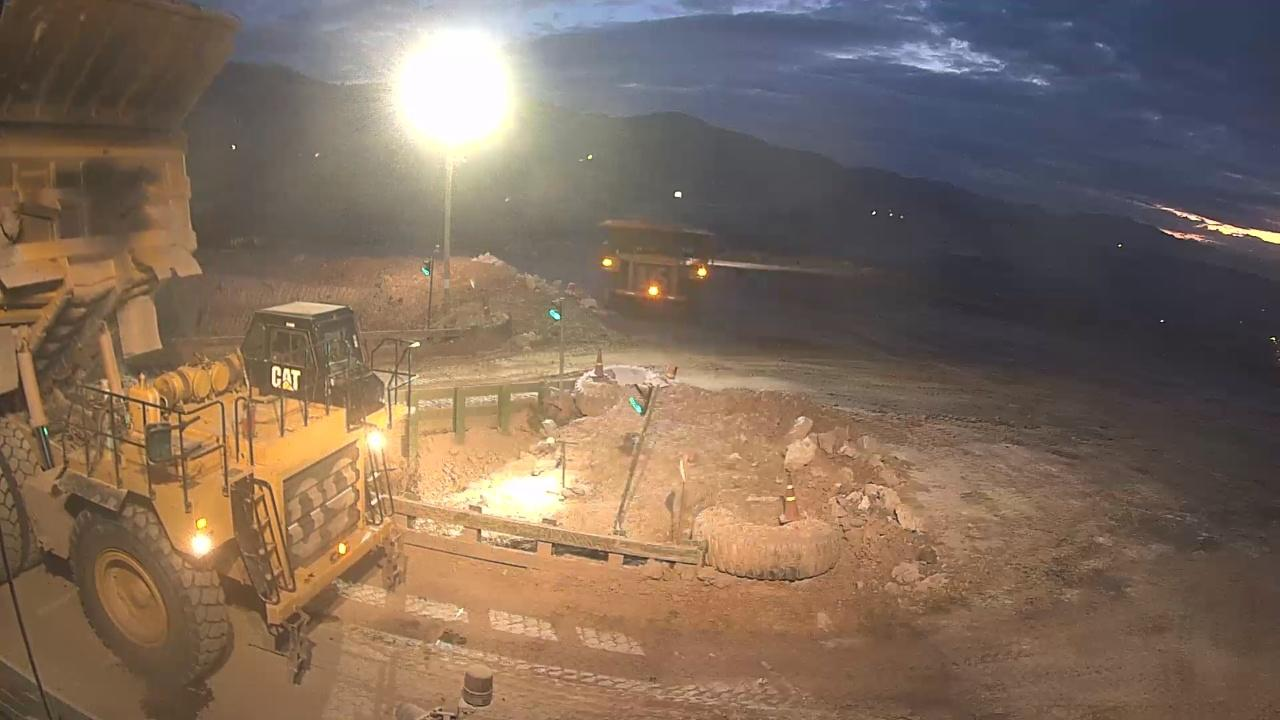dumping_soil: (4, 6, 404, 720)
front_number: (287, 452, 360, 553), (634, 257, 670, 300)
mining_truck: (587, 217, 717, 320)
